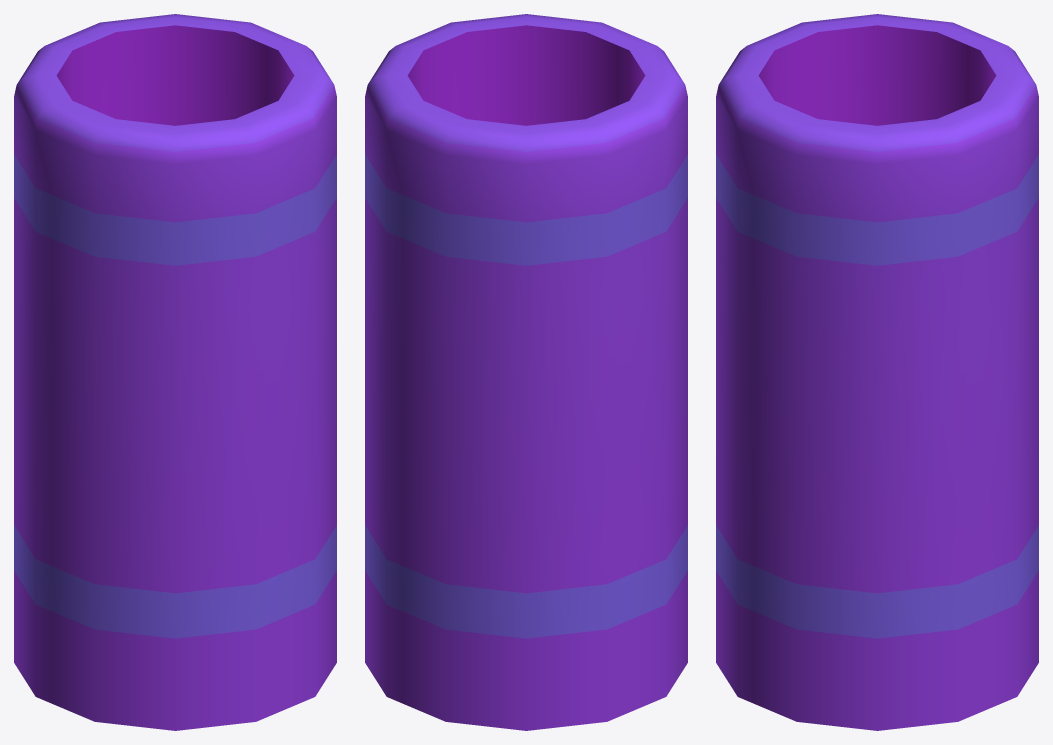
Rendered from F_P_FireworksEjector_5.FBX.
The picture shows the model from 3 angles, left to right: view 1: azimuth 30°, elevation 25°; view 2: azimuth 150°, elevation 25°; view 3: azimuth 270°, elevation 25°; orthographic projection.
Visible parts, largest first — view 1: F_P_FireworksEjector_5; view 2: F_P_FireworksEjector_5; view 3: F_P_FireworksEjector_5.
Part boxes in pixels (box(x1,y1,x2,y2)): F_P_FireworksEjector_5: box(14, 14, 336, 730); F_P_FireworksEjector_5: box(365, 14, 687, 730); F_P_FireworksEjector_5: box(716, 14, 1038, 730).
Size of the model in its own units: 39.47 by 79.2 by 39.47.
